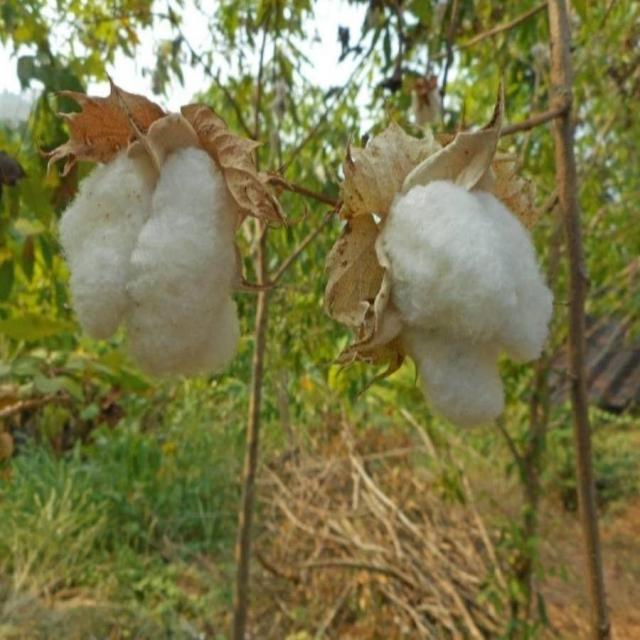Early_blight: (314, 68, 569, 446), (28, 72, 300, 394)
